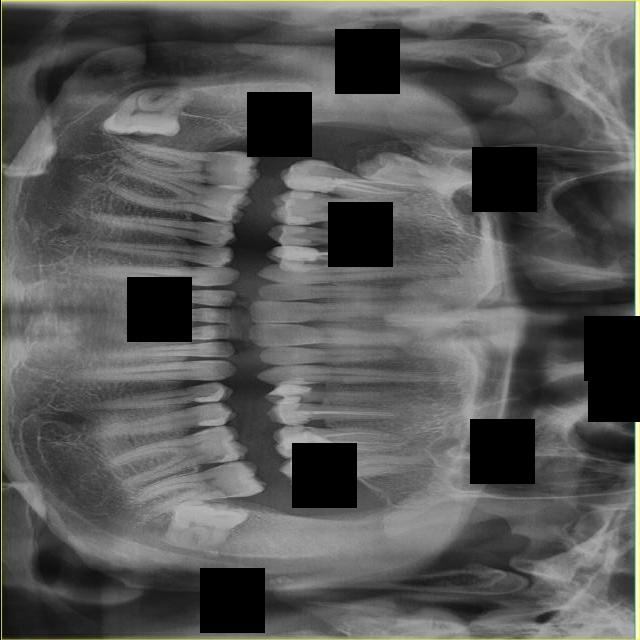71: (298, 251, 350, 257)
74: (333, 174, 414, 196), (312, 435, 380, 456), (331, 183, 412, 200), (321, 438, 382, 448), (317, 255, 392, 263), (321, 430, 379, 439), (311, 410, 394, 416), (349, 250, 380, 253)
Sterngold Implant: (317, 472, 343, 488), (212, 454, 230, 463), (311, 240, 326, 245), (297, 453, 310, 458), (205, 426, 218, 431), (219, 463, 231, 467), (186, 400, 198, 403)
Straumann Implant: (279, 162, 335, 198), (272, 188, 317, 227), (271, 421, 322, 452), (267, 223, 319, 249), (268, 400, 313, 425), (194, 386, 231, 409), (269, 246, 321, 262), (265, 383, 312, 398), (196, 416, 228, 428), (288, 455, 316, 468), (275, 394, 300, 405)
